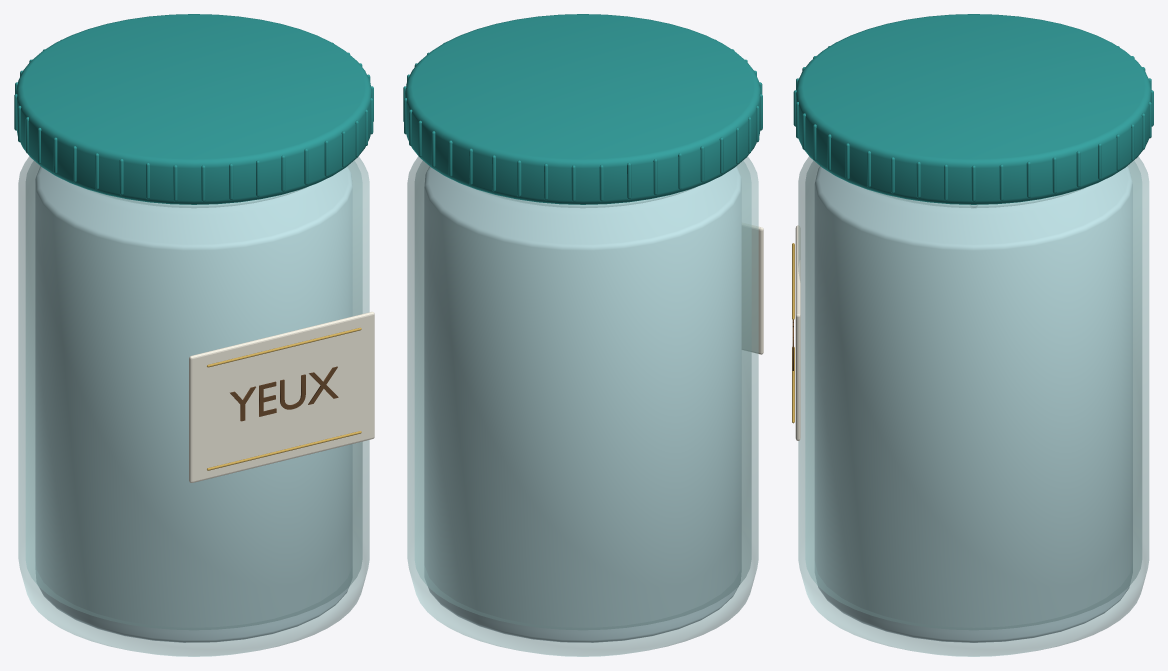
Rendered from jar_eyes.glb.
3 views of the same model, side by side, from view 1: azimuth 30°, elevation 25°; view 2: azimuth 150°, elevation 25°; view 3: azimuth 270°, elevation 25° (orthographic).
Visible parts, largest first — view 1: Hollow_jar_glass, Pale_liquid, Separate_screw_lid, Cream_paper_label, Label_YEUX, Glass_thread, Label_gold_rule.001, Label_gold_rule; view 2: Hollow_jar_glass, Pale_liquid, Separate_screw_lid, Cream_paper_label, Glass_thread; view 3: Hollow_jar_glass, Pale_liquid, Separate_screw_lid, Cream_paper_label, Glass_thread.
Part boxes in pixels (bbox=[...]): Hollow_jar_glass: bbox=[18, 156, 369, 656]; Pale_liquid: bbox=[35, 166, 352, 642]; Separate_screw_lid: bbox=[16, 14, 371, 204]; Cream_paper_label: bbox=[189, 312, 374, 482]; Label_YEUX: bbox=[230, 366, 338, 421]; Glass_thread: bbox=[81, 187, 306, 208]; Label_gold_rule.001: bbox=[207, 327, 361, 367]; Label_gold_rule: bbox=[207, 431, 361, 470]; Hollow_jar_glass: bbox=[407, 156, 758, 656]; Pale_liquid: bbox=[424, 166, 741, 642]; Separate_screw_lid: bbox=[405, 14, 760, 204]; Cream_paper_label: bbox=[742, 223, 763, 354]; Glass_thread: bbox=[470, 187, 695, 208]; Hollow_jar_glass: bbox=[798, 156, 1149, 656]; Pale_liquid: bbox=[814, 166, 1132, 642]; Separate_screw_lid: bbox=[796, 14, 1151, 204]; Cream_paper_label: bbox=[795, 225, 800, 440]; Glass_thread: bbox=[861, 187, 1086, 208].
Size of the model in its own units: 0.1518 by 0.2395 by 0.1525.
